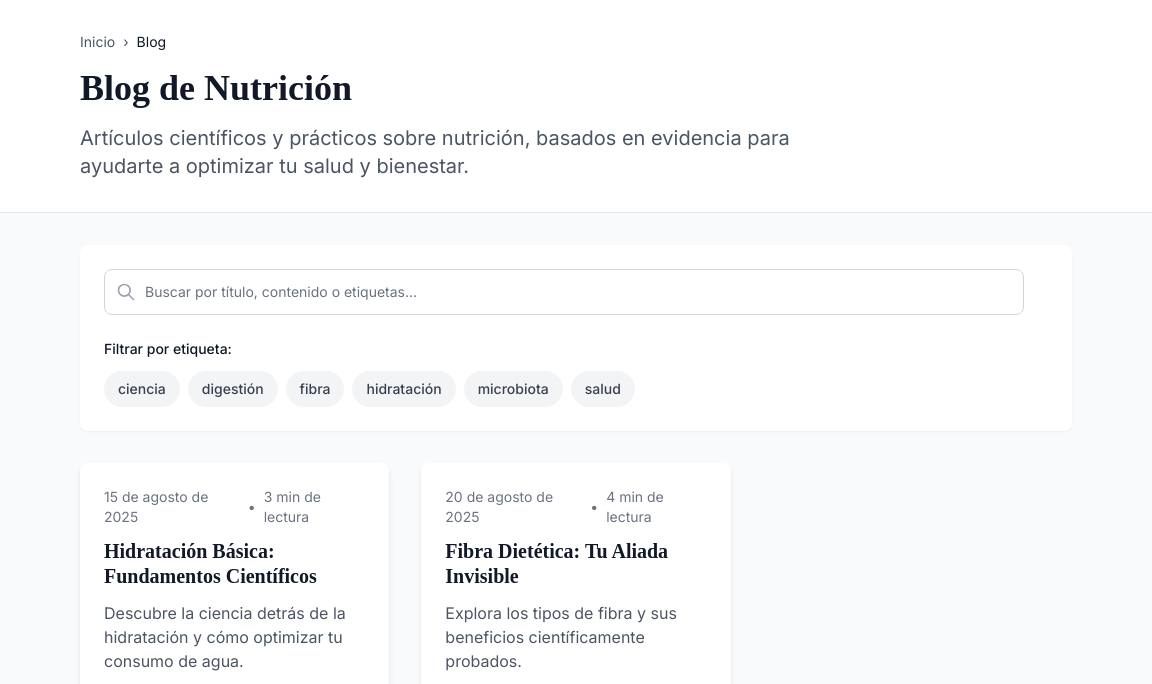
Test case: BlogList › shows no results message when search yields no results
expect the heading "Hidratación Básica: Fundamentos Científicos" is shown: met, box [104,540,317,587]
Type "xyz123notfound" into the field named "Buscar artículos del blog" at [564, 292], box [104,269,1024,315]
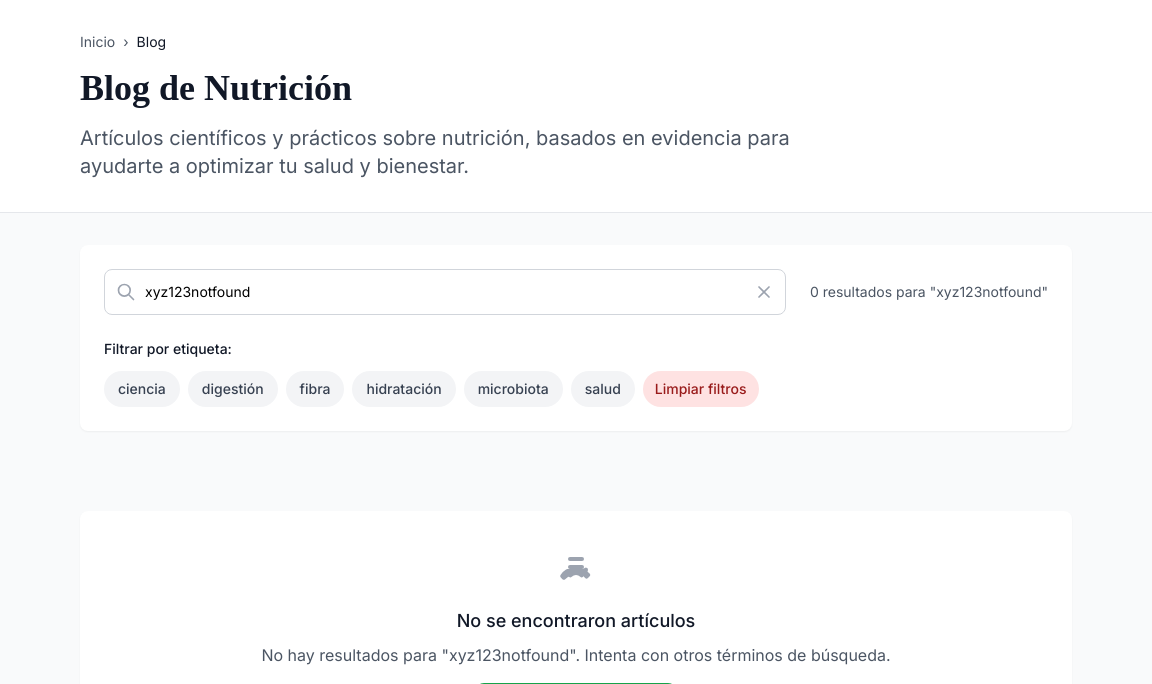
expect the heading "No se encontraron artículos" is shown: met, box [457,610,695,631]
